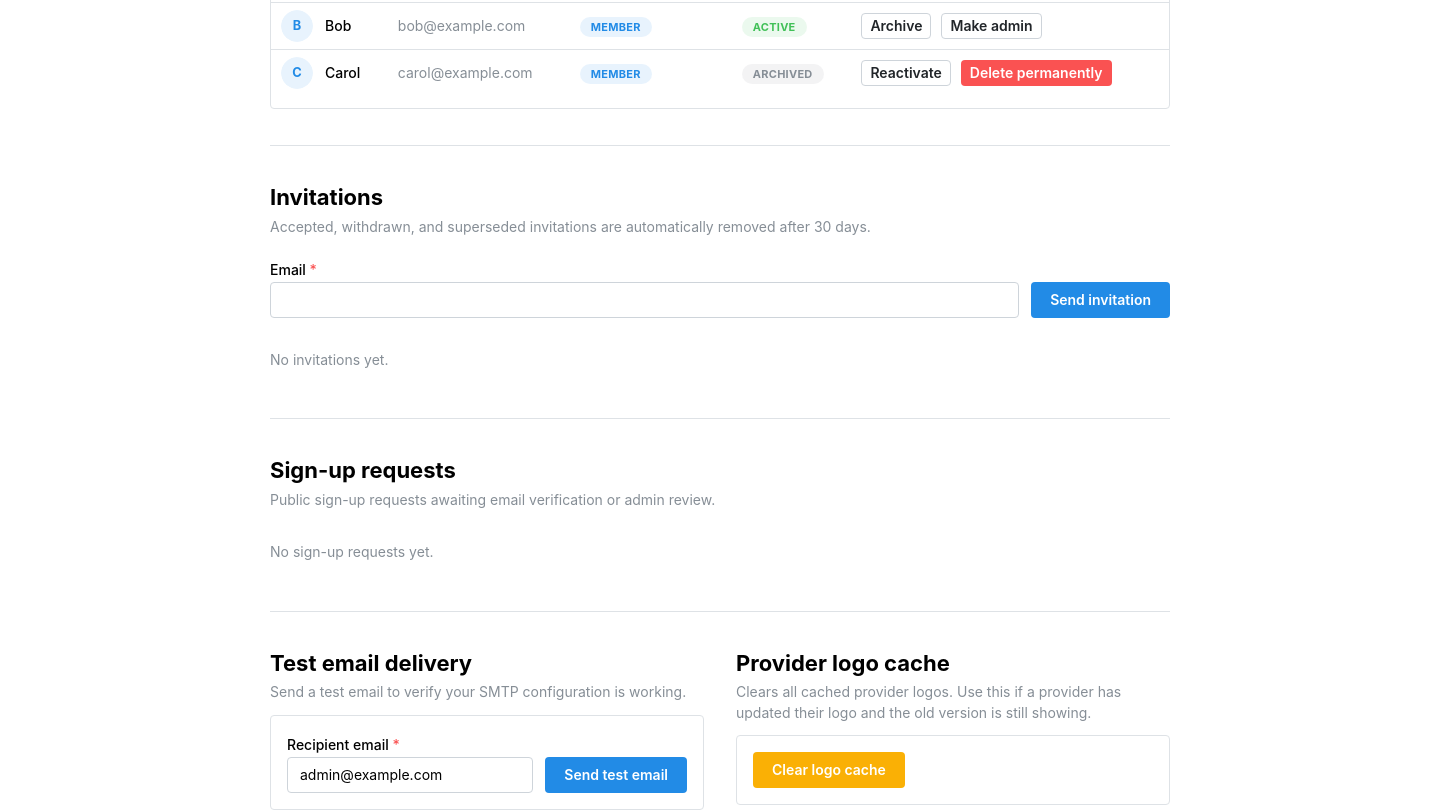
Test: AccountsAdmin – TestEmailForm › shows a success toast when test email is sent
(page scrolled)
Click the button "Send test email" at (616, 774), box [545,756,687,792]
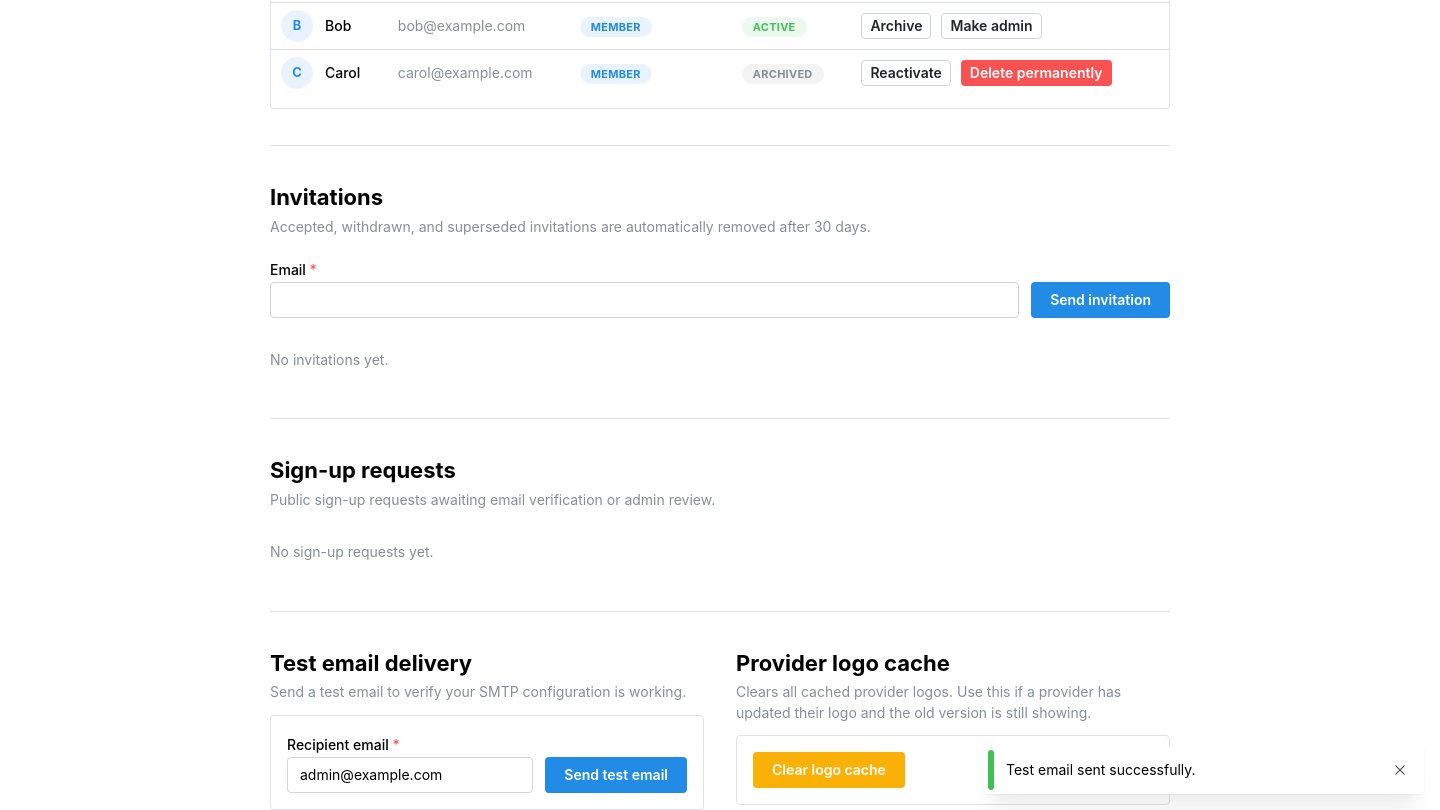
Result: the text "Test email sent successfully." is shown at [1006,761,1196,778]
